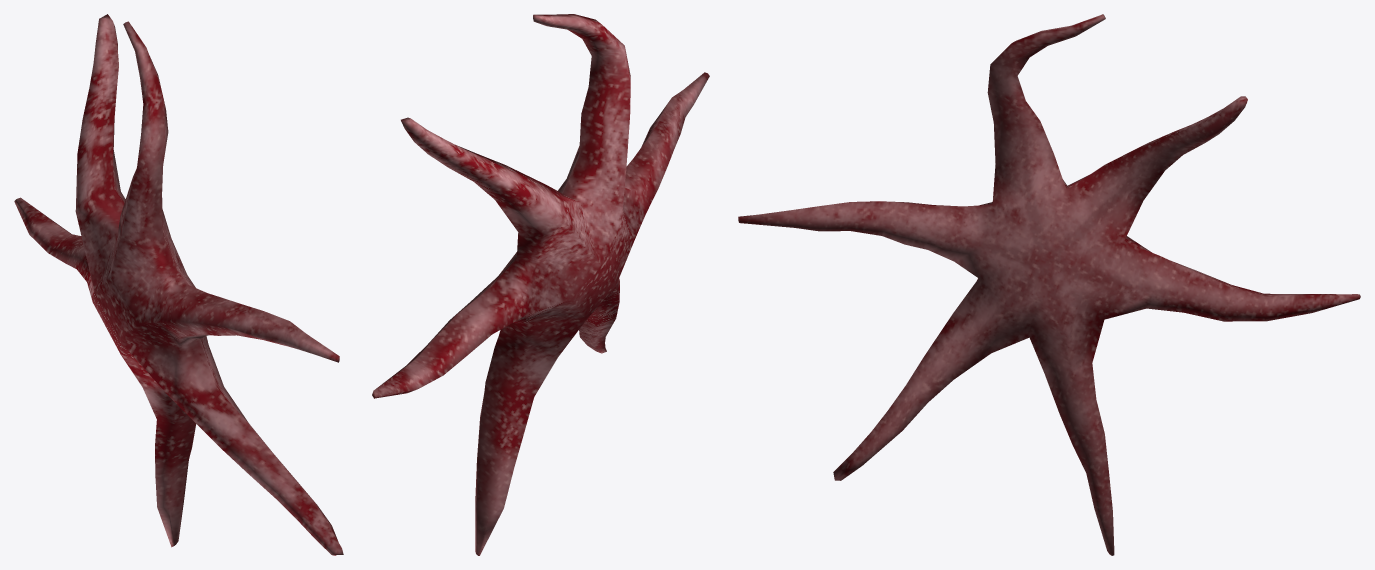
The model's file is Starfish_4.fbx.
The picture shows the model from 3 angles, left to right: view 1: azimuth 30°, elevation 25°; view 2: azimuth 150°, elevation 25°; view 3: azimuth 270°, elevation 25°; orthographic projection. The views are drawn at different scales.
Parts seen in each view (by area): view 1: Starfish_low002; view 2: Starfish_low002; view 3: Starfish_low002.
Part boxes in pixels (left/top/right/bottom): Starfish_low002: left=14, top=14, right=343, bottom=555; Starfish_low002: left=372, top=14, right=709, bottom=555; Starfish_low002: left=738, top=14, right=1360, bottom=555.
Size of the model in its own units: 6.99 by 28.35 by 30.85.
